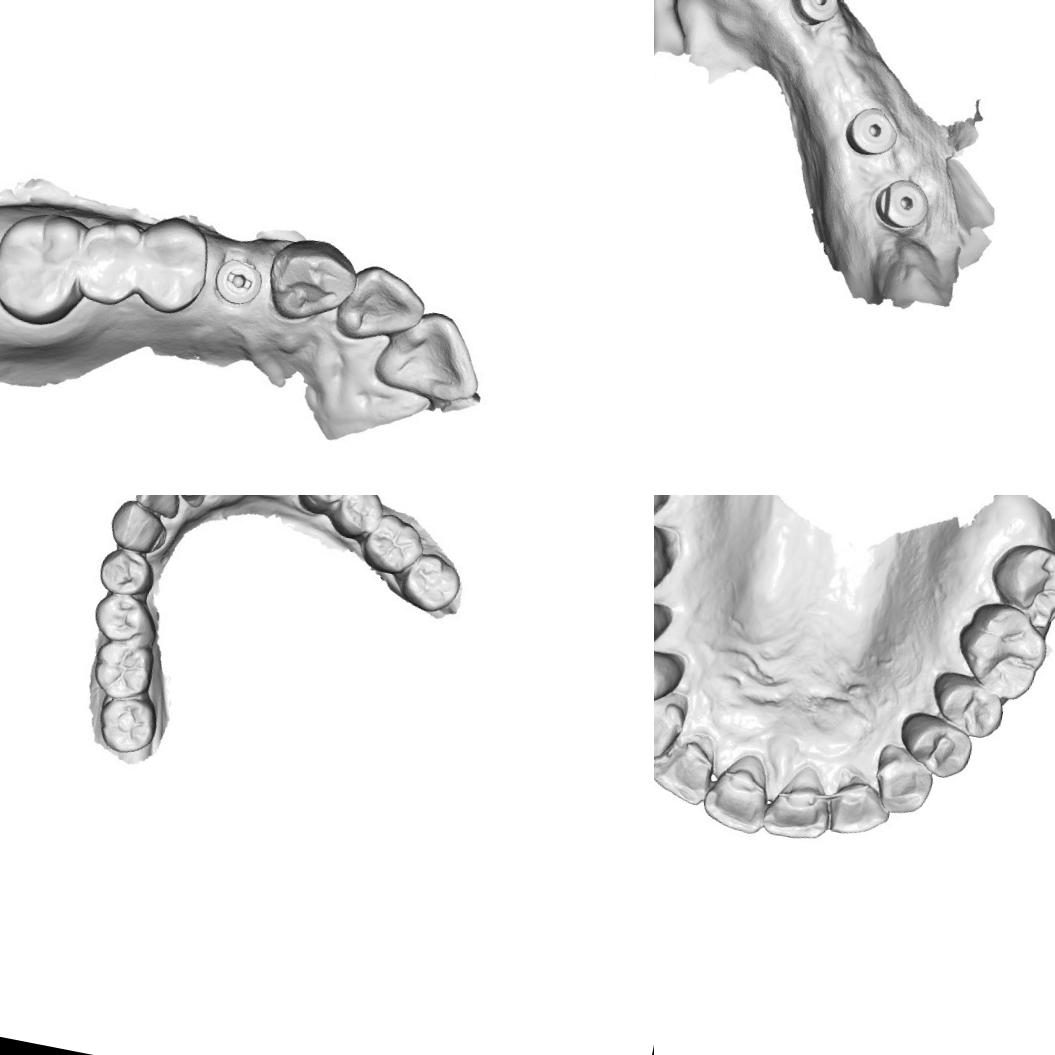canine: (260, 228, 362, 332), (872, 746, 934, 816), (104, 495, 168, 558), (654, 686, 686, 760)
implant: (832, 90, 920, 178), (862, 162, 944, 244), (780, 0, 853, 41)
implant_minus: (209, 249, 271, 312)
incisor: (371, 297, 489, 416), (695, 741, 785, 844), (759, 754, 843, 856), (336, 260, 430, 346), (654, 725, 723, 811), (827, 766, 898, 838), (132, 495, 186, 521)
molar: (0, 199, 97, 327), (952, 594, 1052, 700), (989, 536, 1055, 630), (358, 508, 430, 581), (88, 635, 160, 705), (92, 689, 162, 760), (398, 548, 466, 618), (654, 508, 678, 615)
premolar: (129, 210, 217, 324), (70, 208, 150, 312), (894, 710, 978, 784), (927, 669, 1011, 739), (88, 588, 156, 650), (94, 544, 155, 601), (330, 495, 387, 539), (654, 641, 683, 711), (654, 594, 670, 662), (295, 495, 355, 513)
